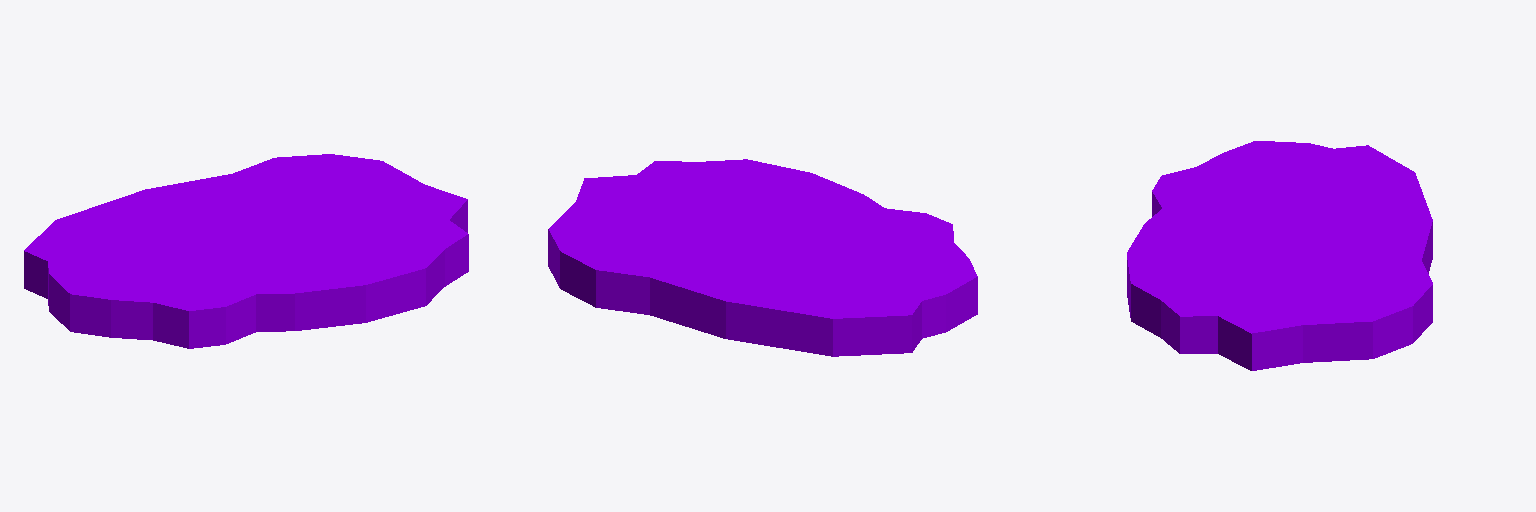
Rendered from Demo Stage.obj.
The picture shows the model from 3 angles: view 1: azimuth 30°, elevation 25°; view 2: azimuth 150°, elevation 25°; view 3: azimuth 270°, elevation 25°; orthographic projection.
Parts seen in each view (by area): view 1: Demo Stage; view 2: Demo Stage; view 3: Demo Stage.
Part boxes in pixels (x1,y1,x2,y2): Demo Stage: (24, 154, 468, 348); Demo Stage: (548, 159, 977, 356); Demo Stage: (1127, 141, 1432, 370).
Bounding box in the file's own units: 39.23 × 3.58 × 26.36.